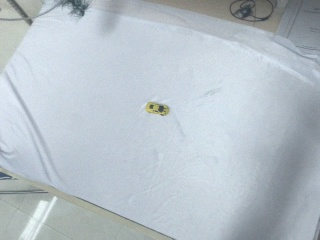toy_car: (145, 102, 169, 116)
